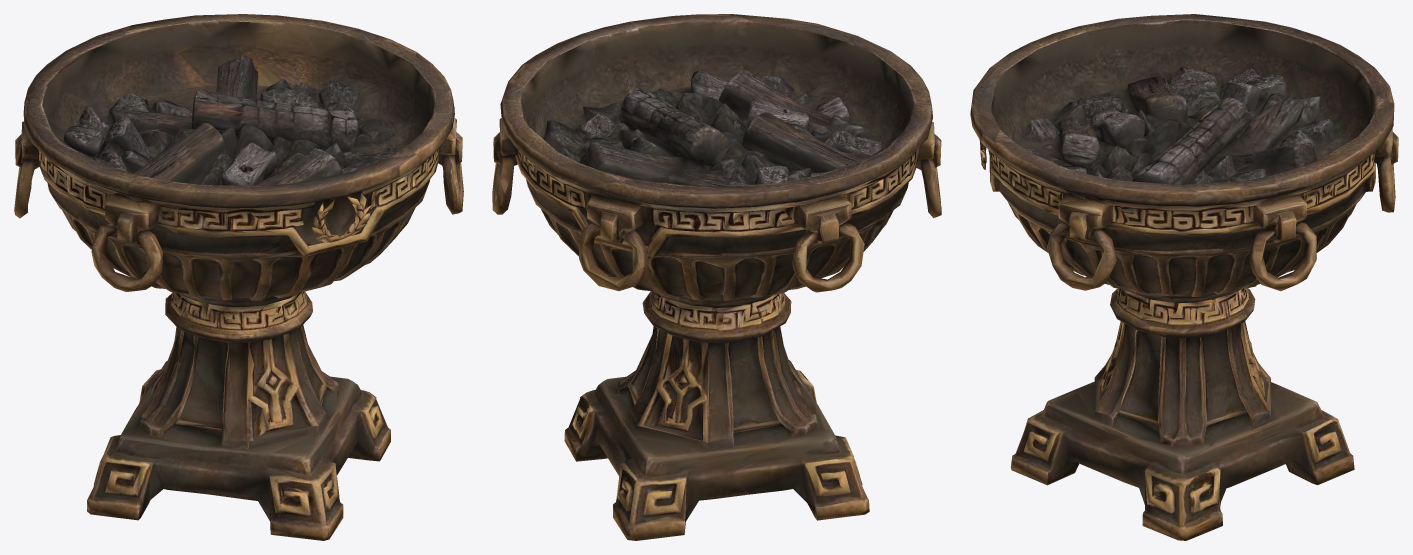
The model's file is cauldron.glb.
The picture shows the model from 3 angles, left to right: view 1: azimuth 30°, elevation 25°; view 2: azimuth 150°, elevation 25°; view 3: azimuth 270°, elevation 25°; orthographic projection.
Parts seen in each view (by area): view 1: cauldron; view 2: cauldron; view 3: cauldron.
Part boxes in pixels (<box>): cauldron: <box>14,14,463,540</box>; cauldron: <box>492,14,941,540</box>; cauldron: <box>970,14,1398,540</box>.
Bounding box in the file's own units: 0.9747 × 0.9229 × 0.9789.
1 material, 1 textured.
